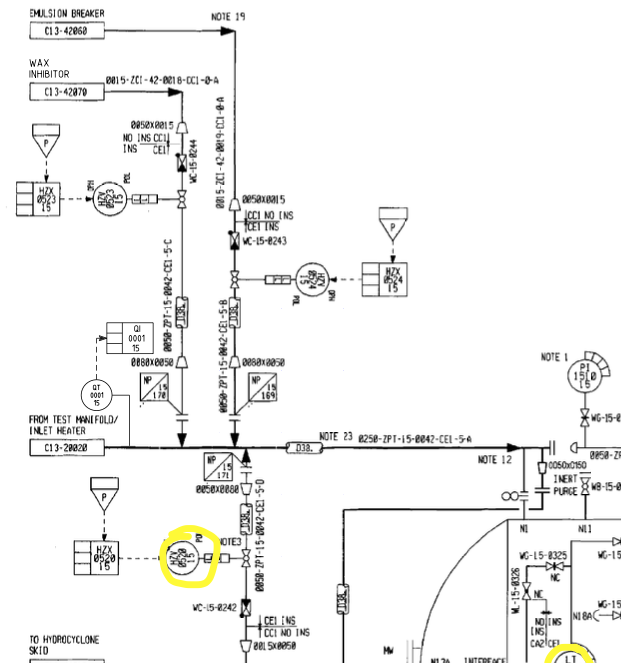Instrument: (158, 536, 202, 578), (290, 259, 332, 302), (89, 180, 132, 221), (80, 379, 113, 411)
Instrument-square: (355, 258, 413, 301), (11, 175, 67, 219), (70, 535, 123, 578), (102, 319, 158, 358)
